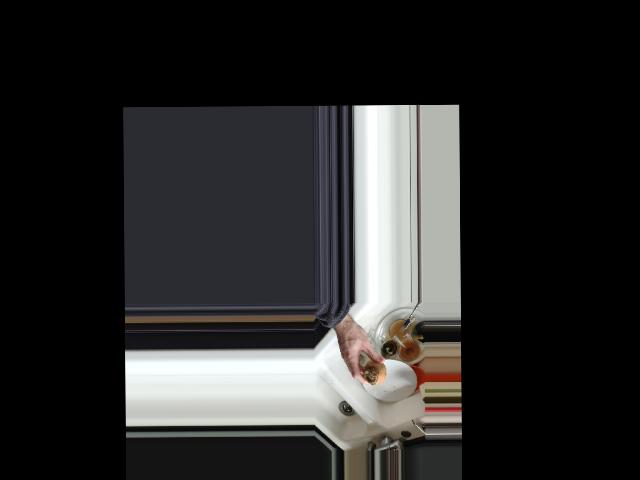sweet_potato: (362, 354, 387, 386)
